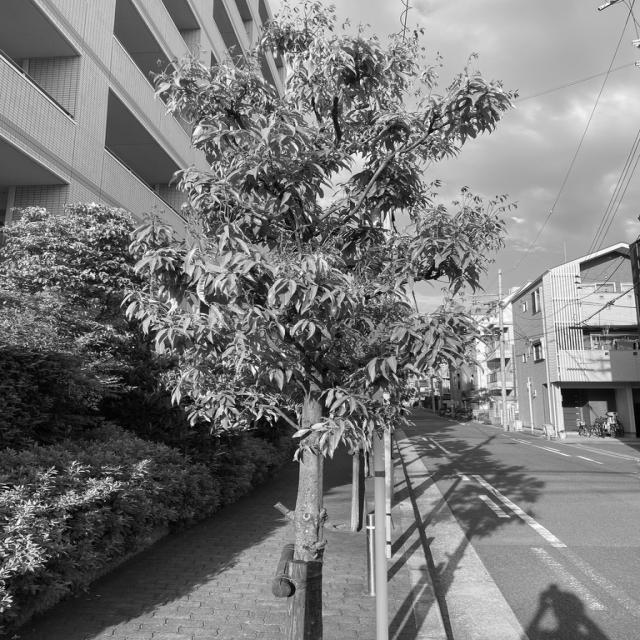camphor: (120, 5, 522, 640)
